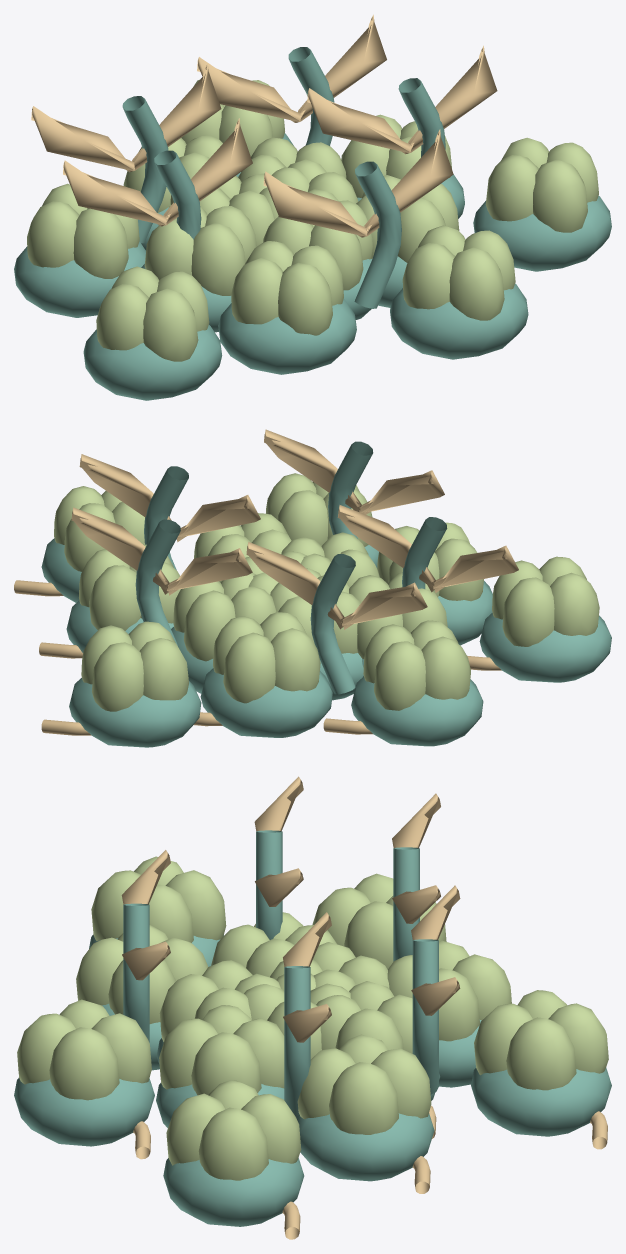
The model's file is bio_oxygen_reef_22_far.glb.
3 renders of one model, top to bottom at view 1: azimuth 30°, elevation 25°; view 2: azimuth 150°, elevation 25°; view 3: azimuth 270°, elevation 25°, orthographic. The views are drawn at different scales.
Visible parts, largest first — view 1: Lobed gas sac.040, Lobed gas sac.028, Lobed gas sac.052, Lobed gas sac.048, Lobed gas sac.036, Lobed gas sac.016, Photosynthetic cushion.007, Photosynthetic cushion.012, Photosynthetic cushion.010, Photosynthetic cushion.013, Secondary fan lobe.004, Secondary fan lobe (+20 smaller); view 2: Lobed gas sac.036, Lobed gas sac.024, Lobed gas sac.044, Lobed gas sac.048, Photosynthetic cushion.011, Photosynthetic cushion.009, Photosynthetic cushion.006, Photosynthetic cushion.012, Lobed gas sac.012, Lobed gas sac.032, Secondary fan lobe.002, Secondary fan lobe.006 (+25 smaller); view 3: Lobed gas sac.044, Lobed gas sac.052, Lobed gas sac.040, Lobed gas sac.032, Lobed gas sac.020, Lobed gas sac.048, Photosynthetic cushion.013, Photosynthetic cushion.011, Photosynthetic cushion.010, Photosynthetic cushion.008, Lobed gas sac.024, Lobed gas sac.028 (+18 smaller).
Boxes of the visible parts, left/top/right/bottom form: Lobed gas sac.040: left=402, top=225, right=515, bottom=320; Lobed gas sac.028: left=231, top=241, right=343, bottom=335; Lobed gas sac.052: left=485, top=137, right=598, bottom=232; Lobed gas sac.048: left=96, top=266, right=209, bottom=361; Lobed gas sac.036: left=27, top=183, right=139, bottom=278; Lobed gas sac.016: left=144, top=206, right=256, bottom=295; Photosynthetic cushion.007: left=218, top=299, right=356, bottom=374; Photosynthetic cushion.012: left=83, top=325, right=222, bottom=400; Photosynthetic cushion.010: left=390, top=283, right=528, bottom=359; Photosynthetic cushion.013: left=473, top=196, right=611, bottom=271; Secondary fan lobe.004: left=263, top=129, right=453, bottom=237; Secondary fan lobe: left=307, top=45, right=497, bottom=154; Lobed gas sac.036: left=363, top=620, right=470, bottom=710; Lobed gas sac.024: left=213, top=612, right=320, bottom=703; Lobed gas sac.044: left=81, top=621, right=188, bottom=711; Lobed gas sac.048: left=492, top=556, right=599, bottom=646; Photosynthetic cushion.011: left=69, top=677, right=201, bottom=747; Photosynthetic cushion.009: left=351, top=676, right=483, bottom=746; Photosynthetic cushion.006: left=200, top=668, right=332, bottom=737; Photosynthetic cushion.012: left=479, top=613, right=611, bottom=682; Lobed gas sac.012: left=173, top=573, right=276, bottom=661; Lobed gas sac.032: left=79, top=544, right=180, bottom=630; Secondary fan lobe.002: left=246, top=542, right=427, bottom=629; Secondary fan lobe.006: left=71, top=507, right=252, bottom=595; Lobed gas sac.044: left=474, top=990, right=608, bottom=1090; Lobed gas sac.052: left=166, top=1080, right=301, bottom=1180; Lobed gas sac.040: left=17, top=999, right=151, bottom=1100; Lobed gas sac.032: left=297, top=1034, right=431, bottom=1134; Lobed gas sac.020: left=159, top=1005, right=284, bottom=1095; Lobed gas sac.048: left=91, top=856, right=226, bottom=942; Photosynthetic cushion.013: left=163, top=1158, right=304, bottom=1226; Photosynthetic cushion.011: left=471, top=1067, right=611, bottom=1136; Photosynthetic cushion.010: left=14, top=1078, right=154, bottom=1146; Photosynthetic cushion.008: left=296, top=1113, right=434, bottom=1181; Lobed gas sac.024: left=387, top=940, right=511, bottom=1041; Lobed gas sac.028: left=76, top=925, right=208, bottom=1023.
Bounding box in the file's own units: 2.35 × 0.7649 × 2.03.
